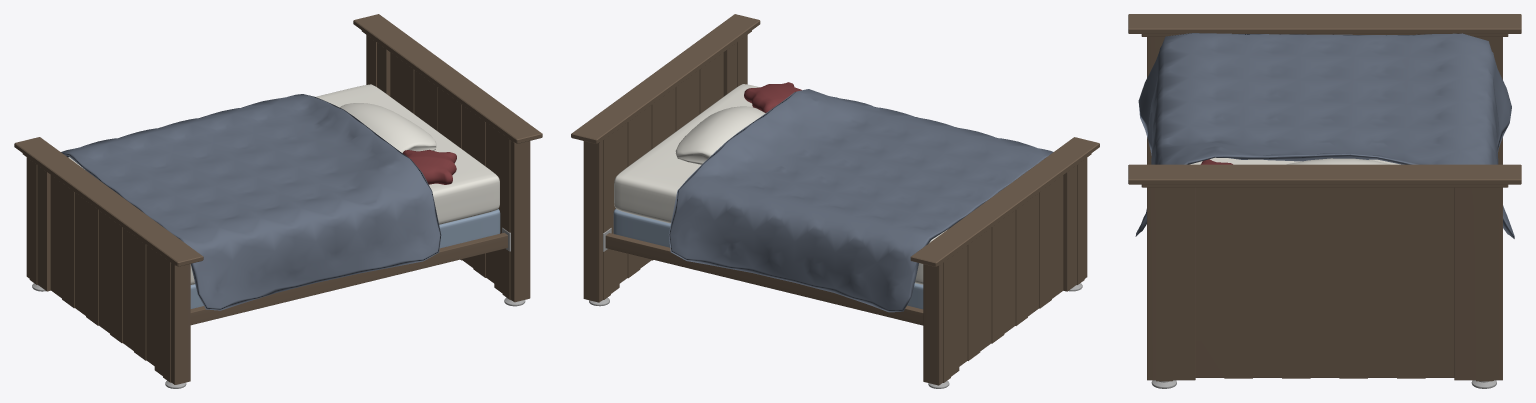
File: br_bed.fbx
3 views of the same model, side by side, from view 1: azimuth 30°, elevation 25°; view 2: azimuth 150°, elevation 25°; view 3: azimuth 270°, elevation 25° (orthographic). The views are drawn at different scales.
Parts seen in each view (by area): view 1: polySurface825; view 2: polySurface825; view 3: polySurface825.
Part boxes in pixels (x1,y1,x2,y2): polySurface825: [14, 14, 542, 388]; polySurface825: [571, 14, 1099, 388]; polySurface825: [1128, 14, 1521, 388].
Size of the model in its own units: 48.14 by 22.23 by 37.38.
